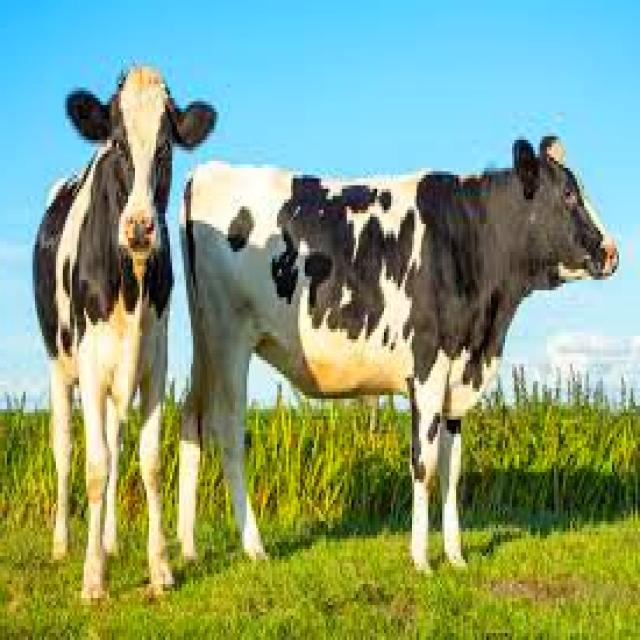cow: (182, 140, 619, 567), (35, 66, 216, 598)
